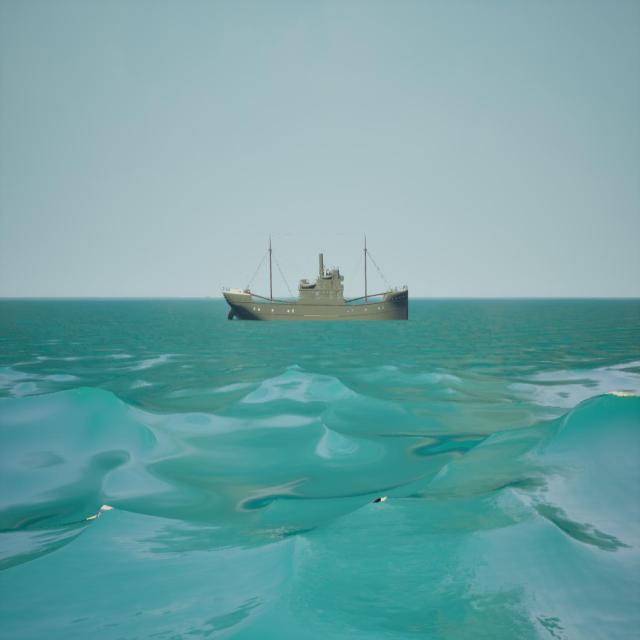fishing ship: (227, 242, 409, 324)
